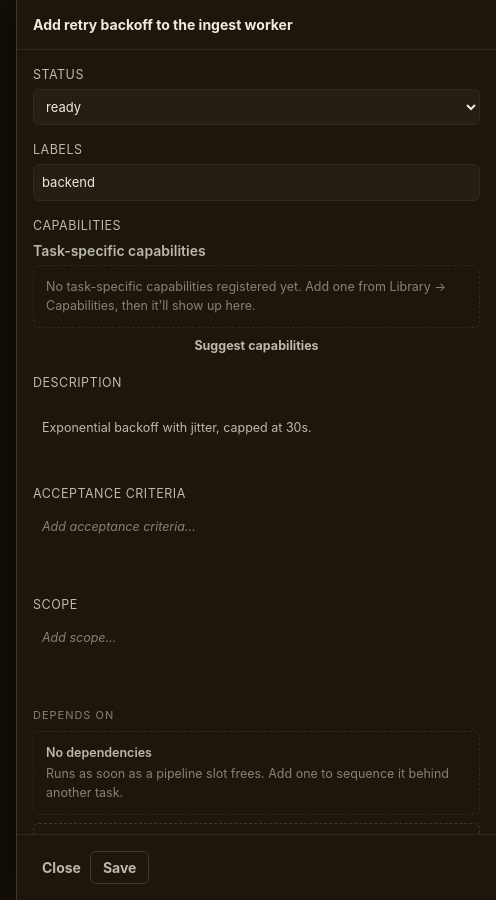
Test case: TaskDetailSheet › click-to-edit long-text fields › switches to an autofocused textarea with the raw text on click
Click the button named "Edit Description": [256, 433] box x1=33 y1=397 x2=480 y2=469
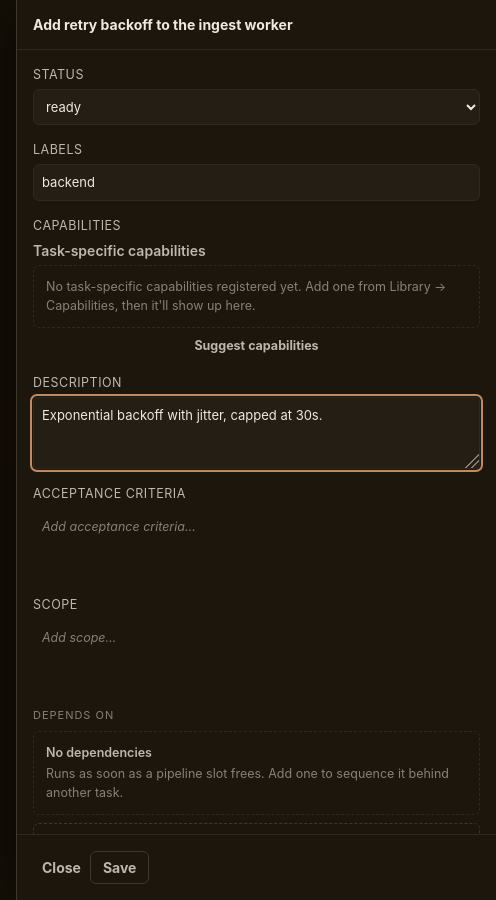
expect the text box named "Description" holds "Exponential backoff with jitter, capped at 30s.": met, box x1=33 y1=397 x2=480 y2=469
